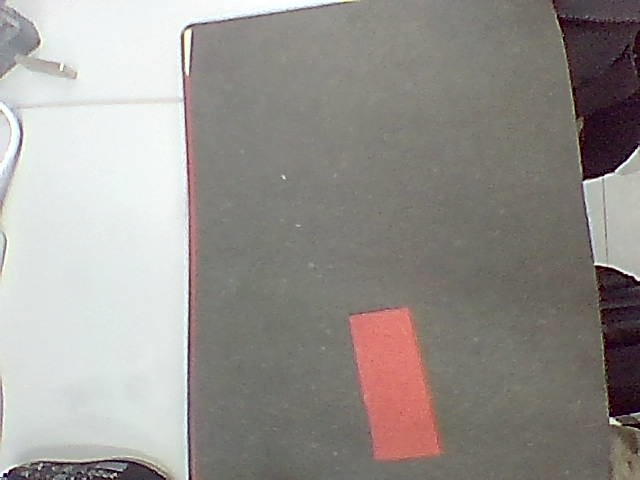card: (350, 309, 439, 461)
